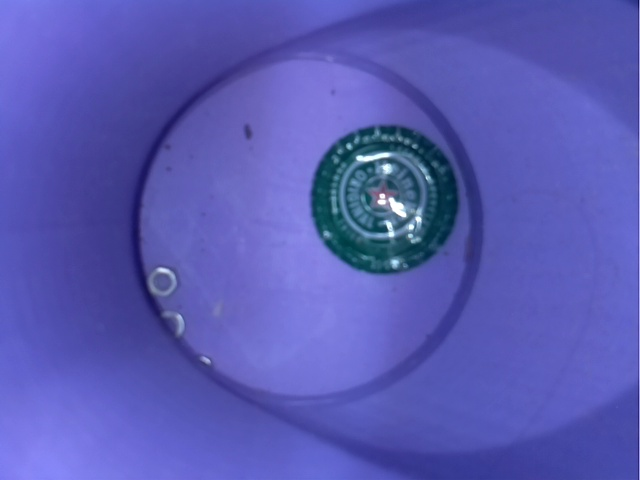capsule: (294, 113, 478, 279)
